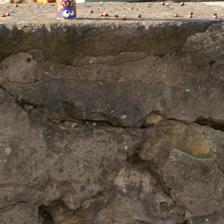Crack: (52, 113, 224, 137), (4, 190, 104, 223), (129, 132, 173, 198), (1, 86, 41, 116)
